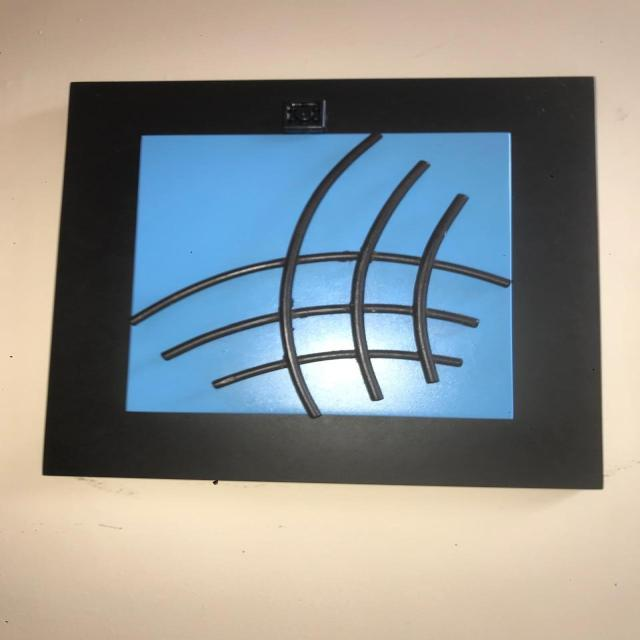hidden camera: (296, 108, 314, 121)
